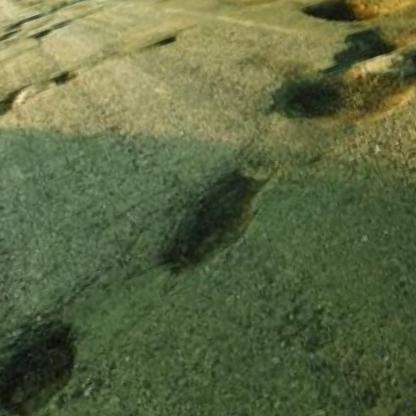pothole: (139, 151, 297, 278), (0, 307, 102, 416), (267, 56, 370, 151), (317, 0, 416, 81), (353, 44, 416, 129), (299, 0, 416, 44), (0, 79, 38, 125), (48, 66, 79, 88), (154, 33, 180, 49)
